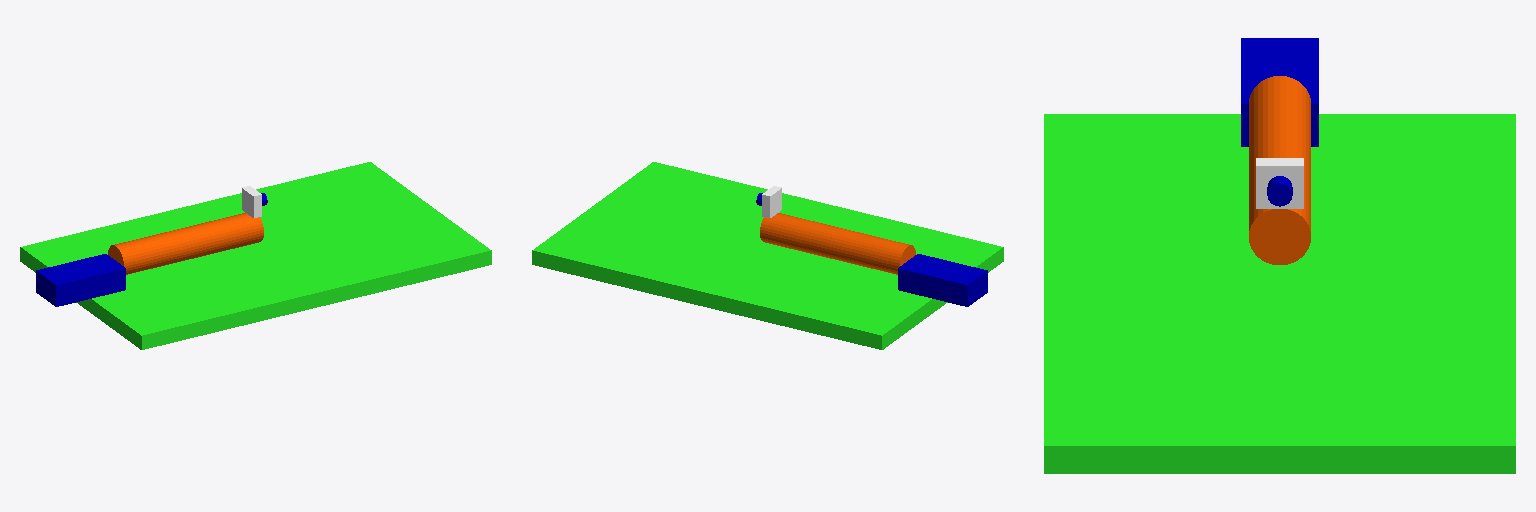
URDF robot description (robot):
<?xml version="1.0" ?>
<!-- =================================================================================== -->
<!-- |    This document was autogenerated by xacro from test.urdf.xacro                | -->
<!-- |    EDITING THIS FILE BY HAND IS NOT RECOMMENDED                                 | -->
<!-- =================================================================================== -->
<robot name="robot">
  <!-- This is an example of a URDF. -->
  <!-- As we move through the file, new things to note will be pointed out. -->
  <!-- It's not meant an example of GOOD design, but an example of some of the various features of URDF/xacro. -->
  <material name="black">
    <color rgba="0.0 0.0 0.0 1.0"/>
  </material>
  <material name="dark">
    <color rgba="0.3 0.3 0.3 1.0"/>
  </material>
  <material name="light_black">
    <color rgba="0.4 0.4 0.4 1.0"/>
  </material>
  <material name="blue">
    <color rgba="0.0 0.0 0.8 1.0"/>
  </material>
  <material name="green">
    <color rgba="0.0 0.8 0.0 1.0"/>
  </material>
  <material name="grey">
    <color rgba="0.5 0.5 0.5 1.0"/>
  </material>
  <material name="orange">
    <color rgba="1.0 0.4235 0.0392 1.0"/>
  </material>
  <material name="brown">
    <color rgba="0.8706 0.8118 0.7647 1.0"/>
  </material>
  <material name="red">
    <color rgba="0.8 0.0 0.0 1.0"/>
  </material>
  <material name="white">
    <color rgba="1.0 1.0 1.0 1.0"/>
  </material>
  <!-- Specify some standard inertial calculations https://en.wikipedia.org/wiki/List_of_moments_of_inertia -->
  <!-- These make use of xacro's mathematical functionality -->
  <!-- This first link called "world" is empty -->
  <link name="world"/>
  <!-- A simple fixed joint from our empty world link, to our base. -->
  <!-- The base origin is offset from the world origin. -->
  <joint name="base_joint" type="fixed">
    <origin rpy="0 0 0" xyz="1.5 1.0 0"/>
    <parent link="world"/>
    <child link="base_link"/>
  </joint>
  <!-- base_link is a large rectangular plate. Some things to note: -->
  <!-- - We set the visual origin Z to half the box height, so that the link origin sits at the bottom of the box -->
  <!-- - We set the collision to be identical to the visual -->
  <!-- - We specified the colour manually (but still need to enter a name) -->
  <!-- - We specified all the inertial parameters manually -->
  <link name="base_link">
    <visual>
      <origin rpy="0 0 0" xyz="0 0 0.05"/>
      <geometry>
        <box size="2.5 1.5 0.1"/>
      </geometry>
      <material name="green">
        <color rgba="0.2 1 0.2 1"/>
      </material>
    </visual>
    <collision>
      <origin rpy="0 0 0" xyz="0 0 0.05"/>
      <geometry>
        <box size="2.5 1.5 0.1"/>
      </geometry>
    </collision>
    <inertial>
      <origin rpy="0 0 0" xyz="0 0 0.05"/>
      <mass value="12"/>
      <inertia ixx="2.26" ixy="0.0" ixz="0.0" iyy="6.26" iyz="0.0" izz="8.5"/>
    </inertial>
  </link>
  <!-- slider_joint lets slider_link move back and forth along the top of the base in one dimension.  -->
  <!-- - Origin is set to one of the top edges of the base_link box, so that our link skims across the top  -->
  <!-- - It moves along the X axis -->
  <!-- - We need to specify limits for the motion -->
  <joint name="slider_joint" type="prismatic">
    <origin rpy="0 0 0" xyz="-1.25 0 0.1"/>
    <parent link="base_link"/>
    <child link="slider_link"/>
    <axis xyz="1 0 0"/>
    <limit effort="100" lower="0" upper="2" velocity="100"/>
  </joint>
  <!-- slider_link is the box skimming across the top of the base. Its parameters are similar to the base_link, however: -->
  <!-- - Instead of explicitly describing a colour, it uses the named material "blue". It knows about "blue" that material was included in example_include.xacro. -->
  <!-- - Instead of explicitly describing the inertia, we use a macro that was defined in the example_include.xacro -->
  <link name="slider_link">
    <visual>
      <origin rpy="0 0 0" xyz="0 0 0.075"/>
      <geometry>
        <box size="0.5 0.25 0.15"/>
      </geometry>
      <material name="blue"/>
    </visual>
    <collision>
      <origin rpy="0 0 0" xyz="0 0 0.075"/>
      <geometry>
        <box size="0.5 0.25 0.15"/>
      </geometry>
    </collision>
    <inertial>
      <origin rpy="0 0 0" xyz="0 0 0.075"/>
      <mass value="0.5"/>
      <inertia ixx="0.003541666666666666" ixy="0.0" ixz="0.0" iyy="0.011354166666666667" iyz="0.0" izz="0.013020833333333332"/>
    </inertial>
  </link>
  <!-- arm_joint describes the rotation of the arm and is centred around the top corner of the slider box. -->
  <!-- - The axis of rotation is -1 in Y, so that positive is "up" -->
  <!-- - The upper limit uses xacro's mathematical features -->
  <joint name="arm_joint" type="revolute">
    <origin rpy="0 0 0" xyz="0.25 0 0.15"/>
    <parent link="slider_link"/>
    <child link="arm_link"/>
    <axis xyz="0 -1 0"/>
    <limit effort="100" lower="0.0" upper="1.5707963267948966" velocity="100"/>
  </joint>
  <!-- arm_link describes the arm -->
  <!-- - We use the "property" feature to define the arm length and radius and use them multiple times -->
  <!-- - The visual/collision origin is set to halfway along the length (similar to the box), but also with a rotation (again using the mathematical features). -->
  <!--   This is because the cylinder extends along the Z axis by default, but we want it to be along the X axis (when the joint is at 0) -->
  <link name="arm_link">
    <visual>
      <origin rpy="0 1.5707963267948966 0" xyz="0.5 0 0"/>
      <geometry>
        <cylinder length="1.0" radius="0.1"/>
      </geometry>
      <material name="orange"/>
    </visual>
    <collision>
      <origin rpy="0 1.5707963267948966 0" xyz="0.5 0 0"/>
      <geometry>
        <cylinder length="1.0" radius="0.1"/>
      </geometry>
    </collision>
    <inertial>
      <origin rpy="0 1.5707963267948966 0" xyz="0.5 0 0"/>
      <mass value="1.0"/>
      <inertia ixx="0.08583333333333333" ixy="0.0" ixz="0.0" iyy="0.08583333333333333" iyz="0.0" izz="0.005000000000000001"/>
    </inertial>
  </link>
  <!-- camera_joint describes where the camera is relative to the arm -->
  <!-- - Even though the camera isn't moving relative to the arm, it will probably be helpful to have its own link/frame rather than just adding more visuals to the arm -->
  <!-- - For this example, the camera_link origin will be at the centre of the camera's "sensor" -->
  <joint name="camera_joint" type="fixed">
    <origin rpy="0 0 0" xyz="1.0 0 0.175"/>
    <parent link="arm_link"/>
    <child link="camera_link"/>
  </joint>
  <!-- camera_link describes the camera at the end of the arm -->
  <!-- - It has multiple visual elements, which ultimately get combined together -->
  <!-- - Even if we specify different materials, RViz will just colour them all the same as the first -->
  <!-- - Although we could also specify multiple collision geometries, instead we just use a single box that encompasses the whole camera -->
  <link name="camera_link">
    <visual>
      <origin rpy="0 0 0" xyz="-0.03 0 0"/>
      <geometry>
        <box size="0.06 0.15 0.15"/>
      </geometry>
      <material name="white"/>
    </visual>
    <visual>
      <origin rpy="0 1.5707963267948966 0" xyz="0.03 0 0"/>
      <geometry>
        <cylinder length="0.06" radius="0.04"/>
      </geometry>
      <material name="blue"/>
    </visual>
    <collision>
      <origin rpy="0 0 0" xyz="0.0 0 0"/>
      <geometry>
        <box size="0.12 0.15 0.15"/>
      </geometry>
    </collision>
    <inertial>
      <origin rpy="0 0 0" xyz="0.0 0 0"/>
      <mass value="0.1"/>
      <inertia ixx="0.000375" ixy="0.0" ixz="0.0" iyy="0.0003075" iyz="0.0" izz="0.0003075"/>
    </inertial>
  </link>
  <!-- This file demonstrates the use of some <gazebo> tags -->
  <!-- To include it add the following line -->
  <!-- <xacro:include filename="example_gazebo.xacro" /> -->
  <!-- Gazebo is unable to use the same <material> tags that are already in the URDF (that RViz uses). -->
  <!-- Instead, we need to add gazebo tags for our links that refer to Gazebo materials -->
  <gazebo reference="base_link">
    <material>Gazebo/Green</material>
  </gazebo>
  <gazebo reference="slider_link">
    <material>Gazebo/Blue</material>
  </gazebo>
  <gazebo reference="arm_link">
    <material>Gazebo/Orange</material>
  </gazebo>
  <!-- Gazebo requires the use of plugins to interact with other systems such as ROS. -->
  <!-- This plugin will publish the joint_states for the selected joints 
            (which robot_state_publisher can then use to broadcast the approprate tf). -->
  <gazebo>
    <plugin filename="libgazebo_ros_joint_state_publisher.so" name="gazebo_ros_joint_state_publisher">
      <update_rate>20</update_rate>
      <joint_name>slider_joint</joint_name>
      <joint_name>arm_joint</joint_name>
    </plugin>
  </gazebo>
  <!-- This plugin will read a JointTrajectory message from the /set_joint_trajectory topic 
            and move the machine accordingly. It's a bit clunky but it works. -->
  <!-- You'll probably want to add damping to the joints to stop them it flopping around. 
            e.g. <dynamics damping="10.0" friction="10.0"/> -->
  <!-- Here's an example message to publish to test it:
            ros2 topic pub -1 /set_joint_trajectory trajectory_msgs/msg/JointTrajectory  '{header: {frame_id: world}, joint_names: [slider_joint, arm_joint], points: [  {positions: {0.8,0.6}} ]}' -->
  <gazebo>
    <plugin filename="libgazebo_ros_joint_pose_trajectory.so" name="gazebo_ros_joint_pose_trajectory">
      <update_rate>2</update_rate>
    </plugin>
  </gazebo>
  <!-- The next section shows an example of adding a sensor, in this case a depth camera. -->
  <!-- Due to a quirk of how cameras work, an extra joint/link is required to create an
            "optical frame" for the sensor. That isn't the focus for this tutorial, but you can
            look at https://www.ros.org/reps/rep-0103.html#suffix-frames for slightly more information. -->
  <!-- First, create the link and joint for the optical frame -->
  <joint name="camera_optical_joint" type="fixed">
    <origin rpy="-1.571 0 -1.571" xyz="0 0 0"/>
    <parent link="camera_link"/>
    <child link="camera_link_optical"/>
  </joint>
  <link name="camera_link_optical"/>
  <!-- Add a gazebo tag for the ORIGINAL camera_link (but in the plugin we reference the optical frame so that ROS can orient things correctly) -->
  <!-- Within the gazebo tag we have the sensor tag, and inside that there is (among other things) the camera tag with the camera parameters, 
            and the plugin tag with some extra parameters the plugin needs. -->
  <!-- Note that although visualise is set to true, it won't actually visualise the depth camera in gazebo. To see the preview, 
            try swapping "depth" to "camera"-->
  <gazebo reference="camera_link">
    <sensor name="my_camera" type="depth">
      <update_rate>20</update_rate>
      <visualize>true</visualize>
      <camera name="cam">
        <horizontal_fov>1.3962634</horizontal_fov>
        <image>
          <width>640</width>
          <height>480</height>
          <format>R8B8G8</format>
        </image>
        <clip>
          <near>0.02</near>
          <far>300</far>
        </clip>
        <noise>
          <type>gaussian</type>
          <mean>0.0</mean>
          <stddev>0.007</stddev>
        </noise>
      </camera>
      <plugin filename="libgazebo_ros_camera.so" name="camera_controller">
        <frame_name>camera_link_optical</frame_name>
        <min_depth>0.1</min_depth>
        <max_depth>500</max_depth>
      </plugin>
    </sensor>
  </gazebo>
</robot>

--- What the picture shows (computed from the rendered views, not written in the file) ---
The picture shows the robot from 3 angles, left to right: view 1: azimuth 30°, elevation 25°; view 2: azimuth 150°, elevation 25°; view 3: azimuth 270°, elevation 25°; orthographic projection.
Model robot with 6 links and 5 joints (1 revolute, 1 prismatic, 3 fixed), rooted at world, posed every joint at zero.
Visible links, largest first — view 1: base_link, arm_link, slider_link, camera_link; view 2: base_link, arm_link, slider_link, camera_link; view 3: base_link, arm_link, slider_link, camera_link.
Link boxes in pixels (x1,y1,x2,y2): base_link: (20,162,491,349); arm_link: (108,213,263,274); slider_link: (36,254,125,306); camera_link: (242,186,267,217); base_link: (532,162,1003,349); arm_link: (760,213,915,274); slider_link: (898,254,987,306); camera_link: (756,186,781,217); base_link: (1044,114,1515,473); arm_link: (1249,76,1310,264); slider_link: (1241,38,1318,146); camera_link: (1256,158,1303,208).
Size in the robot's own frame: 2.75 by 1.5 by 0.5 metres.
Geometry: primitives only (box / cylinder / sphere), no mesh files.